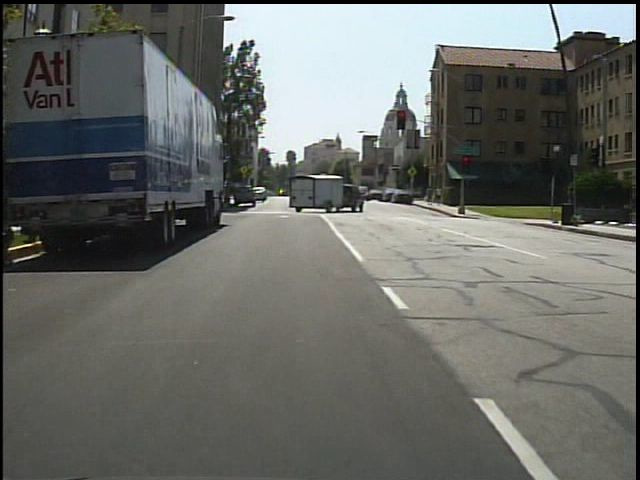person: (434, 184, 446, 210), (425, 185, 436, 209)
